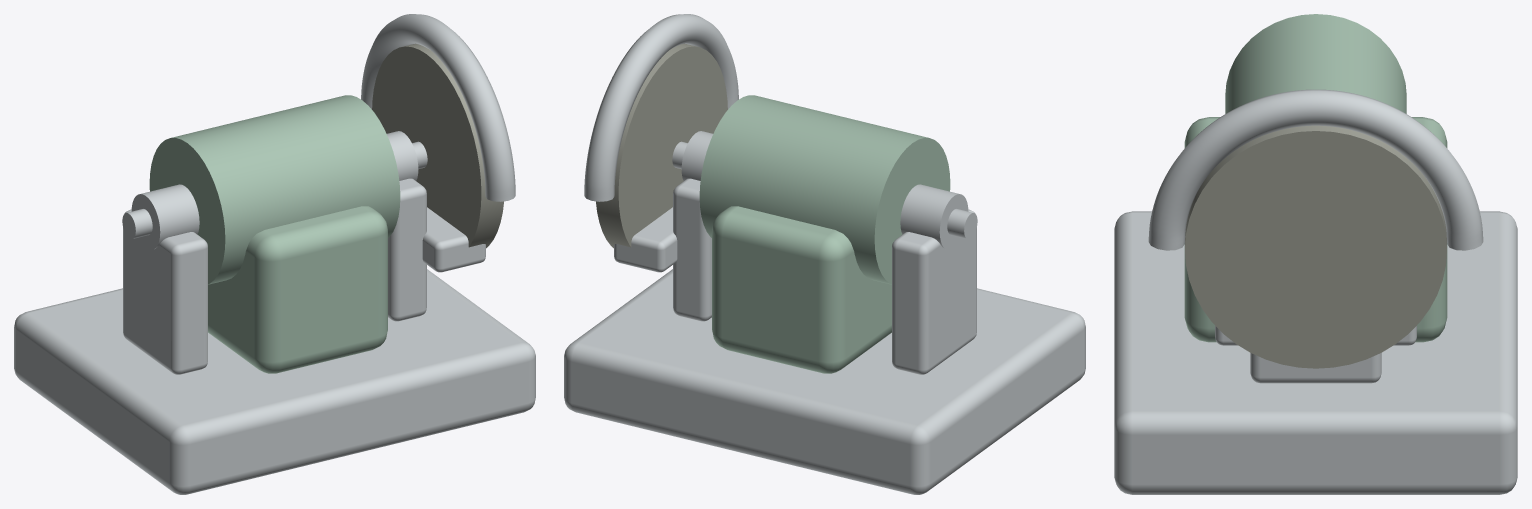
Rendered from hearing-aid-and-audiology-clinic-earmould-rotary-polis-5b164a20__31750.glb.
The picture shows the model from 3 angles, left to right: view 1: azimuth 30°, elevation 25°; view 2: azimuth 150°, elevation 25°; view 3: azimuth 270°, elevation 25°; orthographic projection. The views are drawn at different scales.
Parts seen in each view (by area): view 1: earmould-rotary-polisher; view 2: earmould-rotary-polisher; view 3: earmould-rotary-polisher.
Boxes of the visible parts, box(x1,y1,x2,y2) form: earmould-rotary-polisher: box(14, 14, 535, 494); earmould-rotary-polisher: box(564, 14, 1085, 494); earmould-rotary-polisher: box(1114, 14, 1517, 494).
Size of the model in its own units: 0.25 by 0.218 by 0.2.
